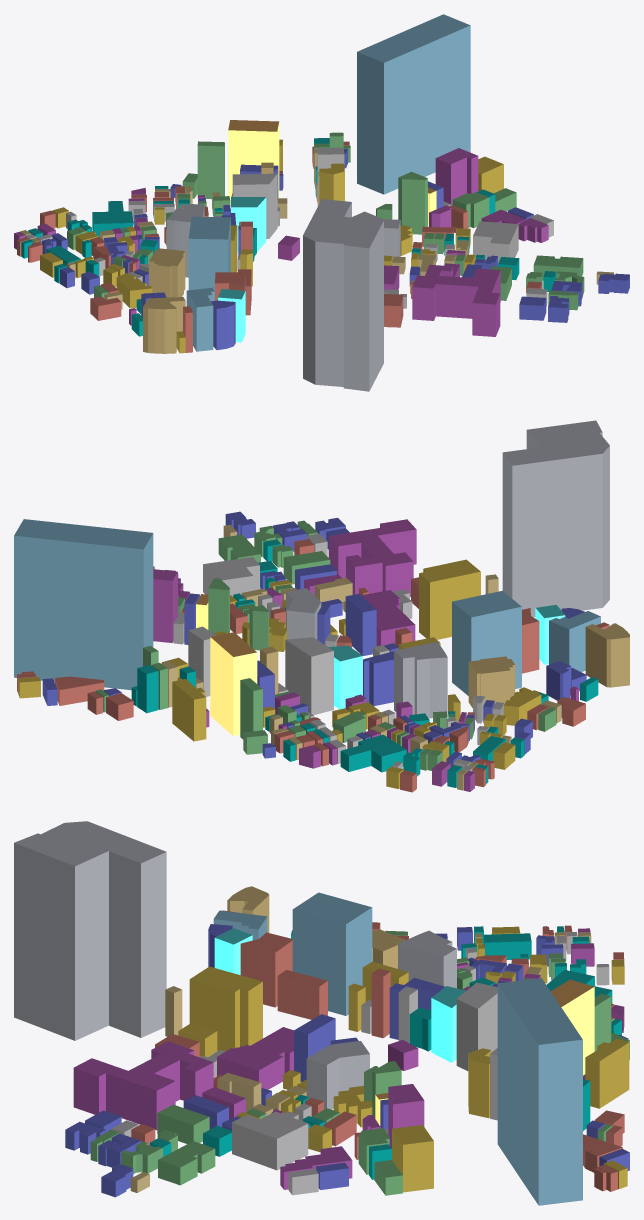
File: shibuya-20.glb
3 renders of one model, top to bottom at view 1: azimuth 30°, elevation 25°; view 2: azimuth 150°, elevation 25°; view 3: azimuth 270°, elevation 25°, orthographic. The views are drawn at different scales.
Parts seen in each view (by area): view 1: shibuya-20; view 2: shibuya-20; view 3: shibuya-20.
Boxes of the visible parts, x1,y1,x2,y2 form: shibuya-20: (14, 14, 629, 391); shibuya-20: (14, 420, 629, 792); shibuya-20: (14, 821, 629, 1205).
Size of the model in its own units: 379 by 116 by 371.
